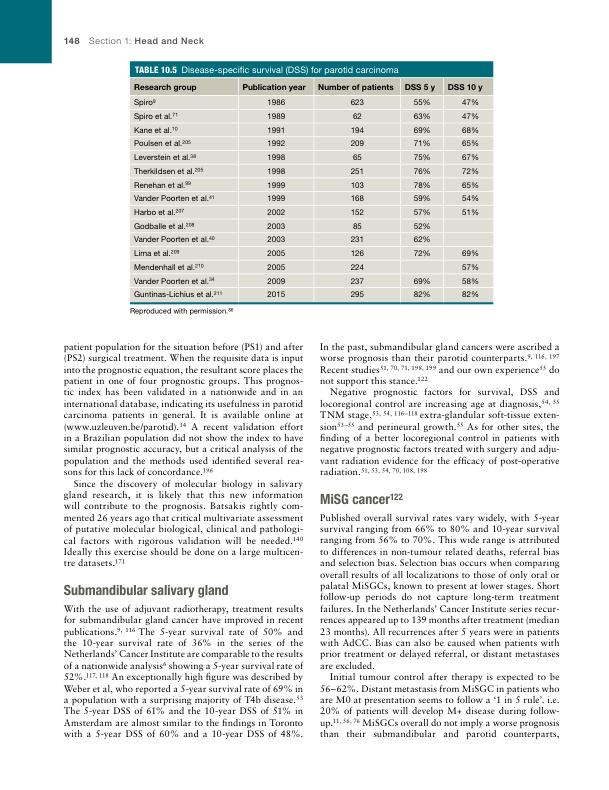caption: (134, 65, 399, 76)
header: (88, 36, 205, 45)
sub-section-heading: (63, 583, 229, 598), (319, 492, 404, 505)
table: (129, 76, 494, 318)
text: (62, 340, 305, 568), (319, 512, 561, 740), (62, 603, 304, 740), (318, 341, 561, 477)
